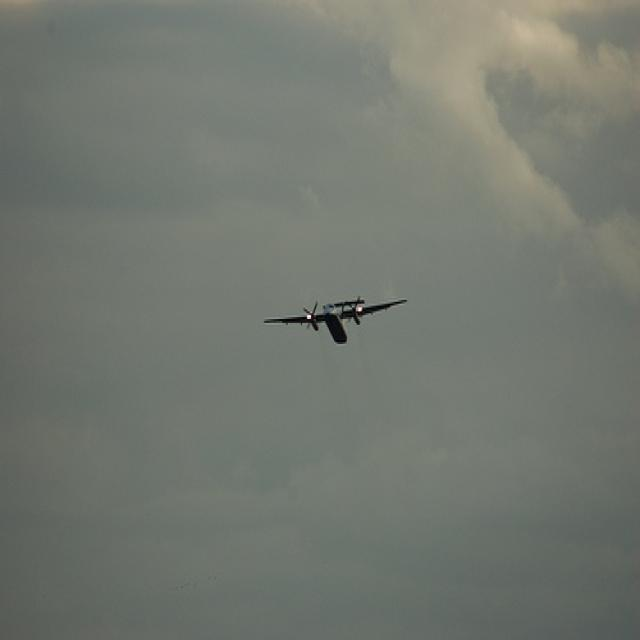aeroplane: (262, 292, 408, 350)
